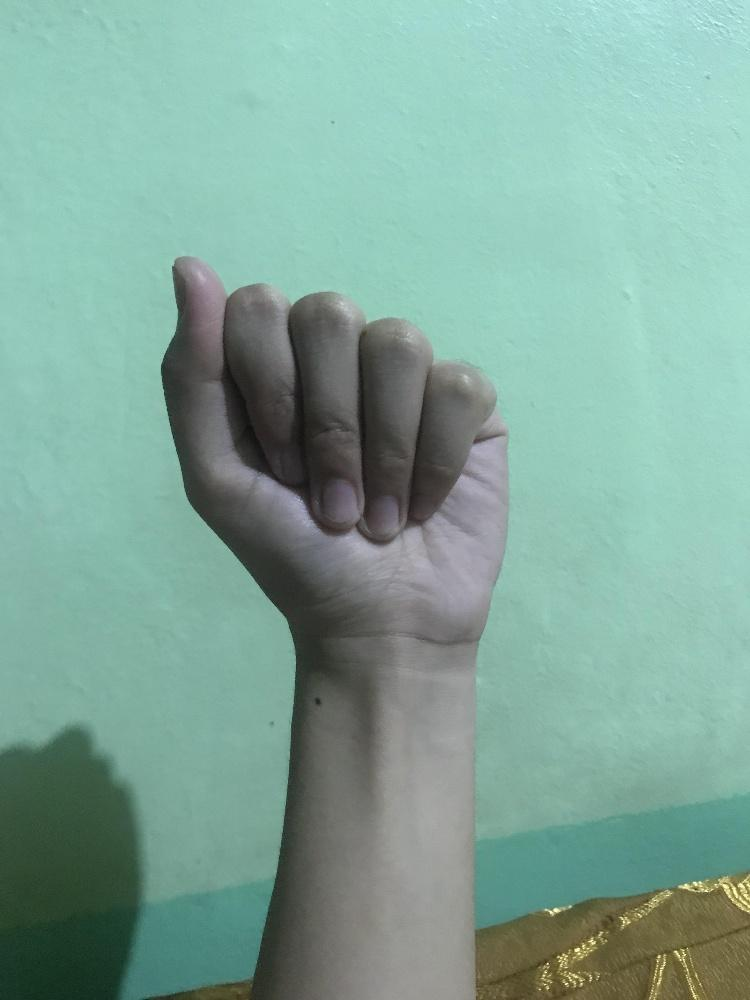a: (157, 249, 511, 651)
